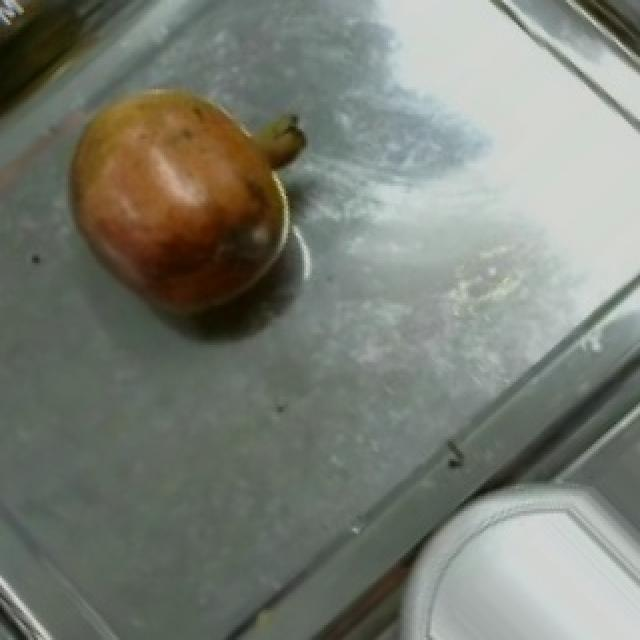fruit: (40, 62, 316, 337)
